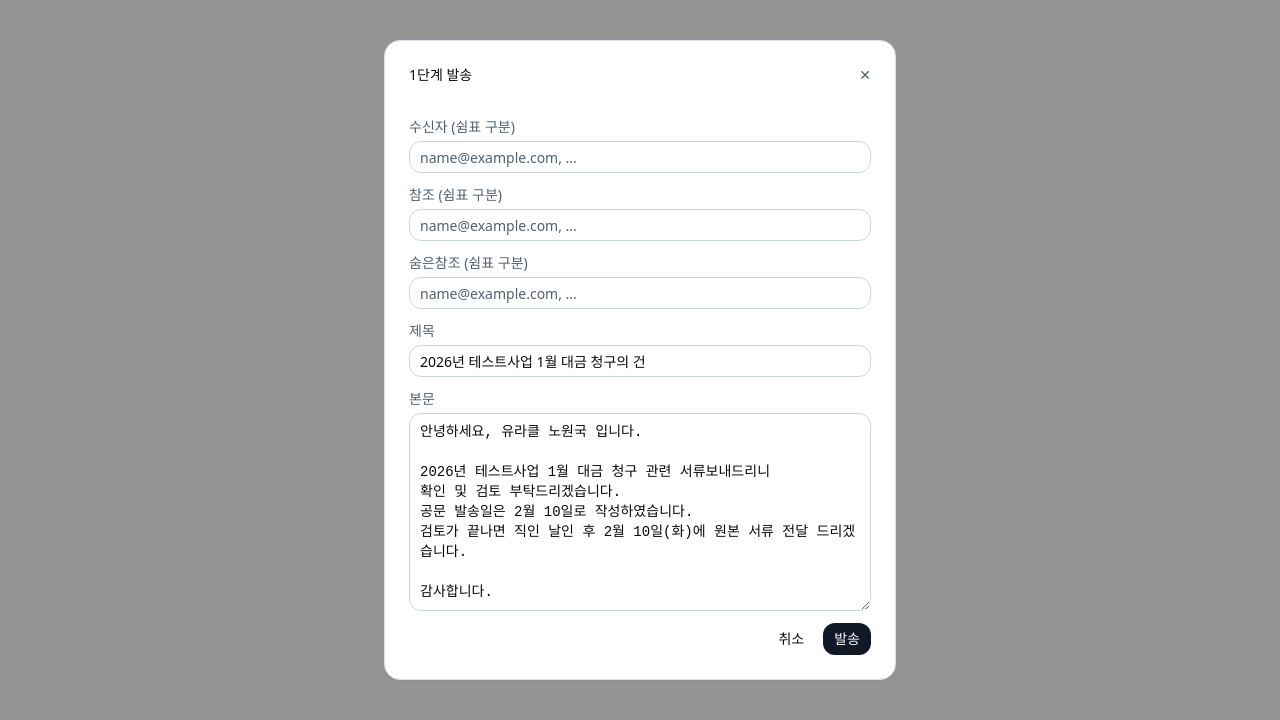
Test: SendModal fail-closed (D6) › ④ cc/bcc만 있고 To가 비면 차단(fetch 미발생)
Type "c@x.com" into the field labelled "참조" at (640, 225), box [409,209,871,241]
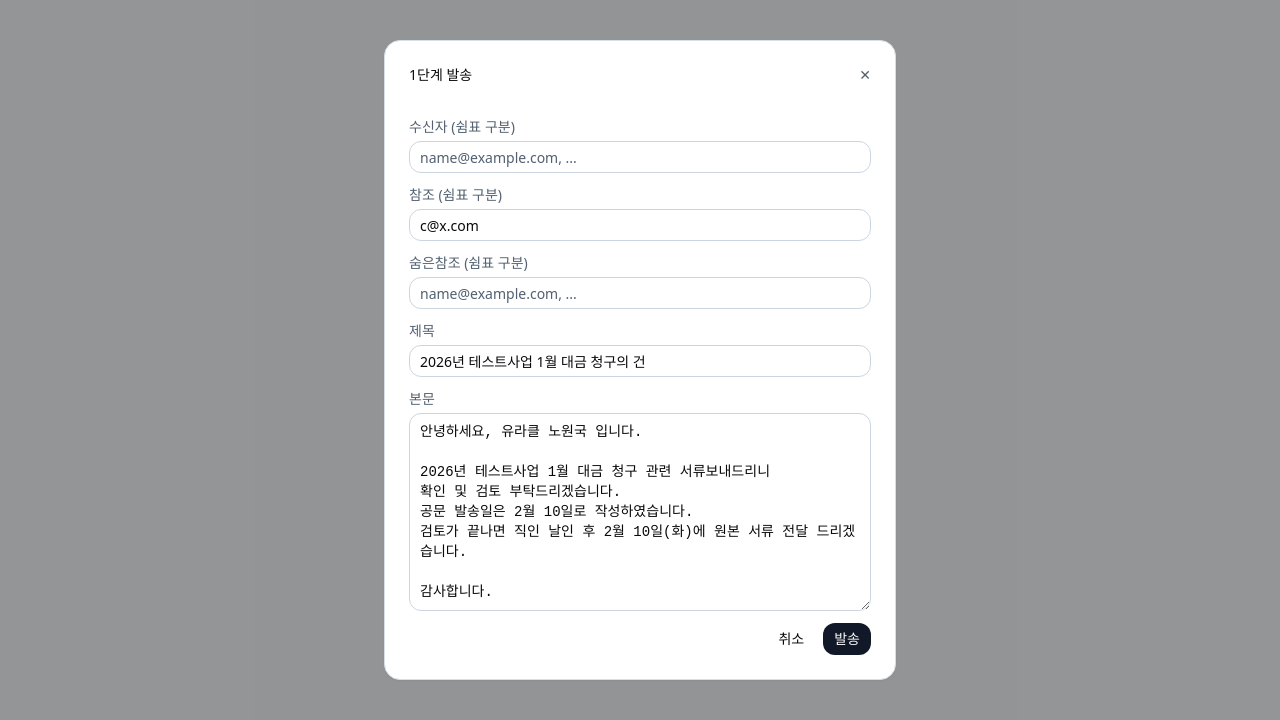
Click the button "발송" at (847, 639), box [823,623,871,655]
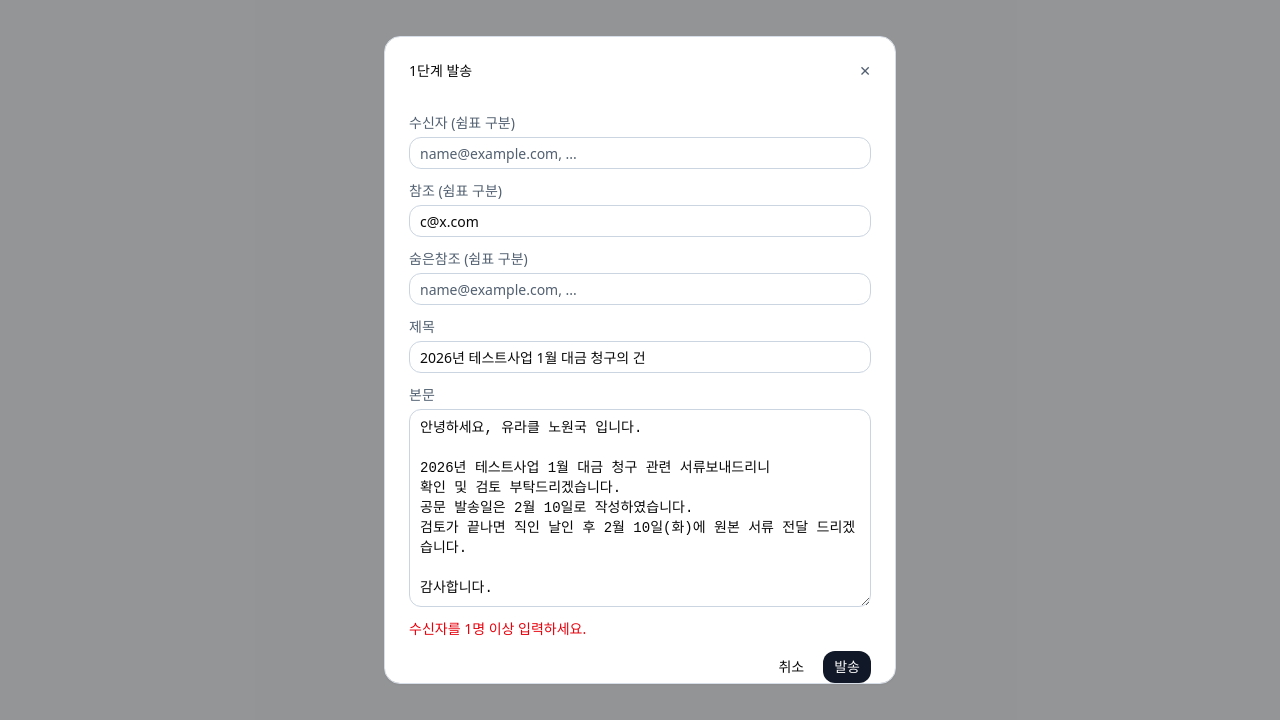
Result: the text "수신자를 1명 이상 입력하세요." is shown at [409,619,586,638]
